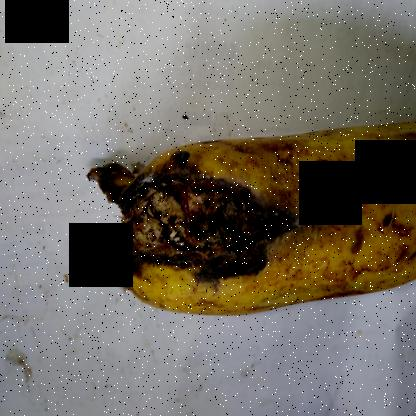ripe: (282, 109, 415, 325)
rotten: (73, 147, 297, 292)
